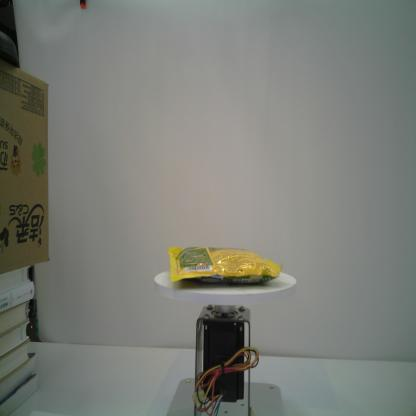Seasoner: (166, 245, 284, 287)
